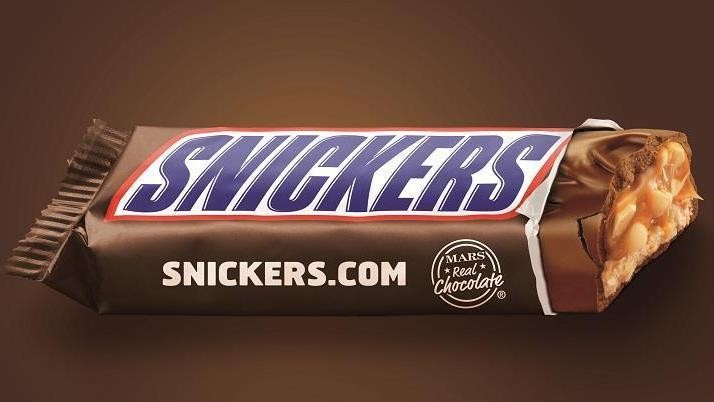snickers: (122, 132, 562, 212)
